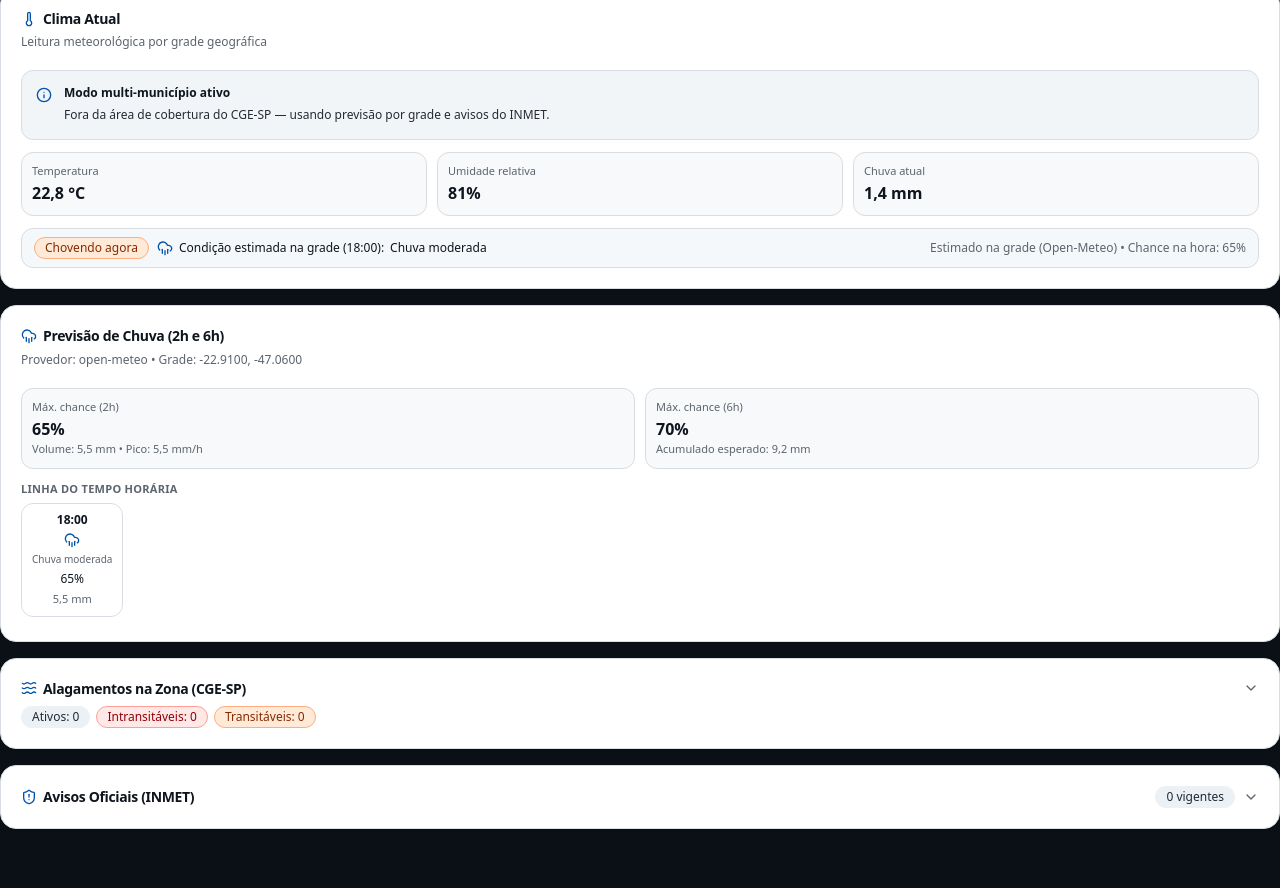
Test: ClimateRiskTab › renders graceful multi-municipality fallback outside Capital SP with forecast.current data
Expected: the text "Fora da área de cobertura do CGE-SP — usando previsão por grade e avisos do INMET." is shown, [64,106,550,123]
Expected: the text "Chovendo agora" is shown, [34,237,149,259]
What coordinates should you click on to do the following:
click the button "Alagamentos na Zona (CGE-SP)"
I would click on:
 (144, 688)
Its box is [1,658,1279,748].
(page scrolled)
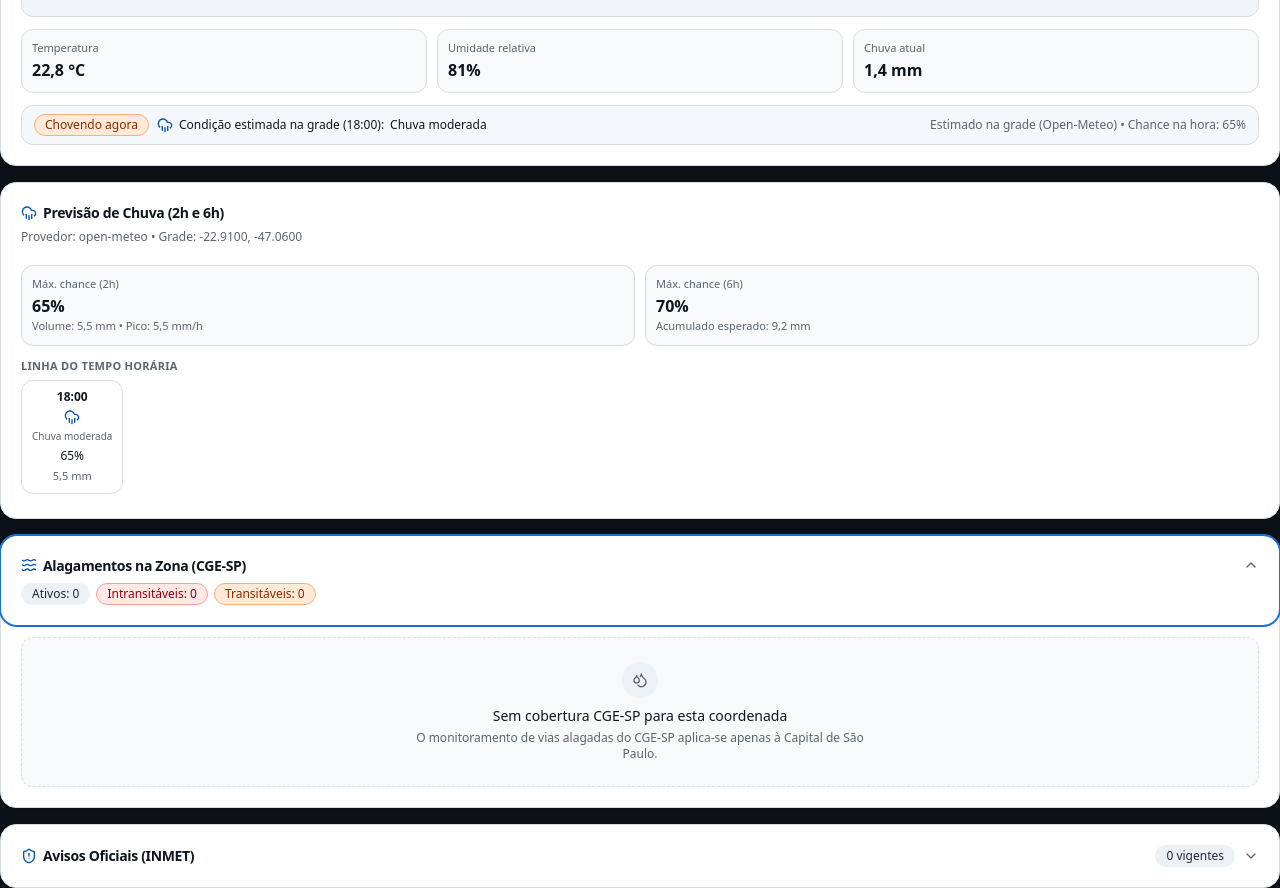
What coordinates should you click on to do the following:
click the button "Avisos Oficiais (INMET) 0 vigentes"
I would click on:
 (119, 856)
Its box is [1,825,1279,887].
(page scrolled)
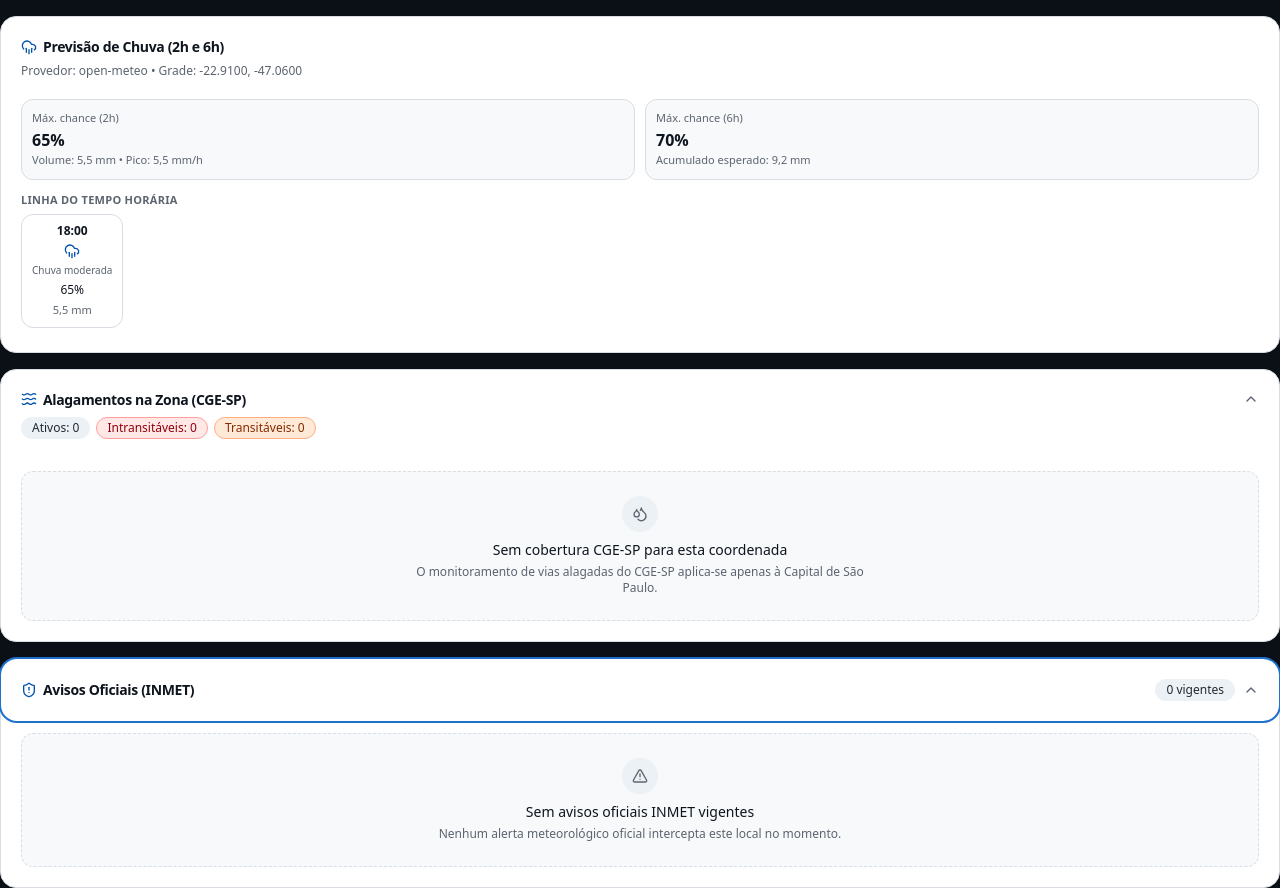
Result: the text "Sem cobertura CGE-SP para esta coordenada" is shown at [493,540,787,560]
Result: the text "Sem avisos oficiais INMET vigentes" is shown at [526,802,754,822]
